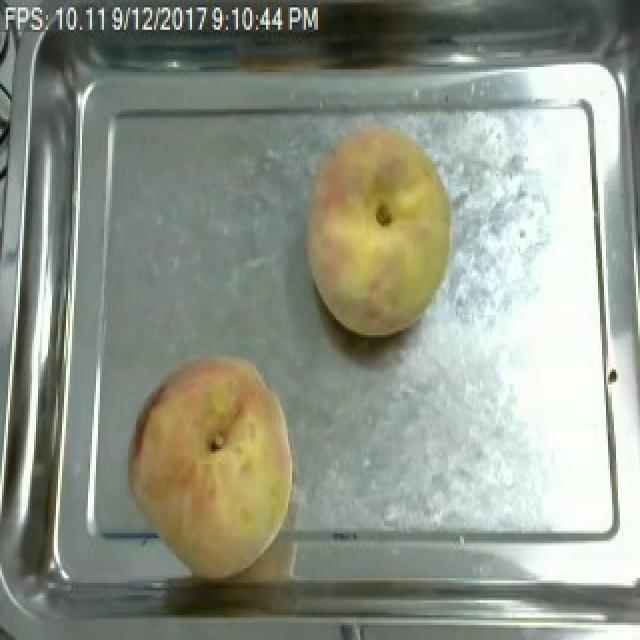Fruit: (118, 342, 302, 586), (296, 114, 460, 342)
